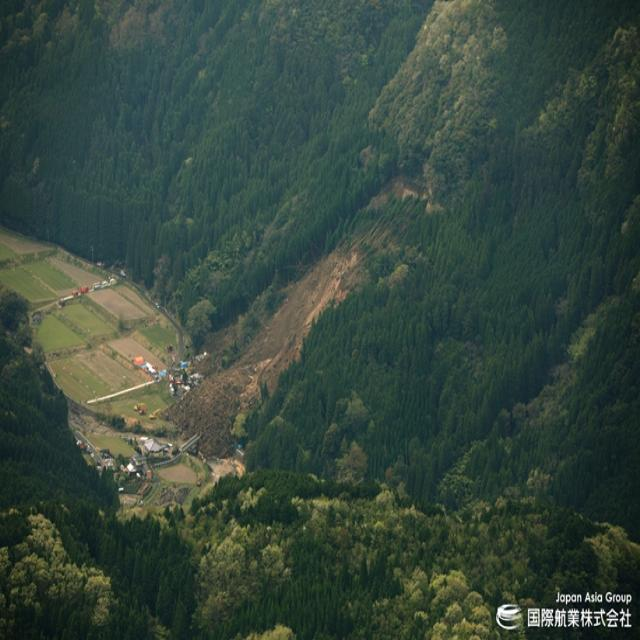Debris-flow: (165, 223, 393, 457), (368, 174, 429, 215)
